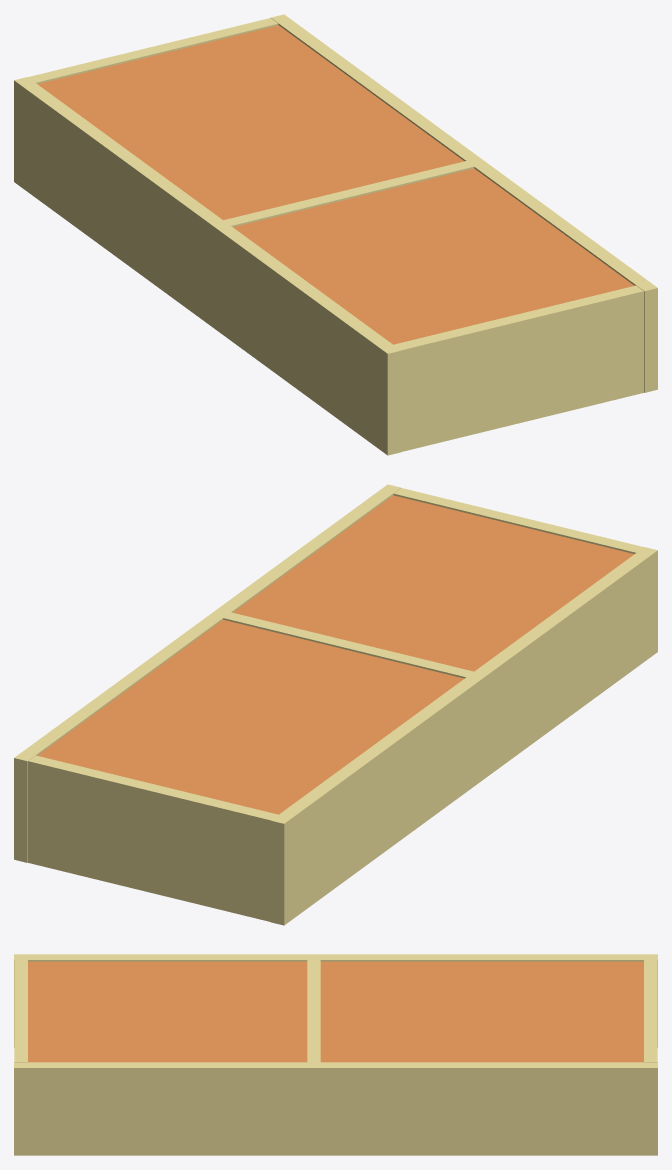
File: room2.fbx
The picture shows the model from 3 angles, top to bottom: view 1: azimuth 30°, elevation 25°; view 2: azimuth 150°, elevation 25°; view 3: azimuth 270°, elevation 25°; orthographic projection. The views are drawn at different scales.
Parts seen in each view (by area): view 1: Plane.001, Cube.001, Cube.004, Cube.003, Cube, Cube.006; view 2: Plane.001, Cube.001, Cube.006, Cube.003, Cube, Cube.004; view 3: Plane.001, Cube.003, Cube.001, Cube, Cube.006, Cube.004.
Part boxes in pixels (box(x1,y1,x2,y2)): Plane.001: box(37, 25, 634, 344); Cube.001: box(14, 77, 401, 455); Cube.004: box(381, 285, 643, 451); Cube.003: box(271, 14, 657, 392); Cube: box(223, 158, 485, 226); Cube.006: box(17, 18, 278, 83); Plane.001: box(37, 495, 634, 814); Cube.001: box(270, 547, 657, 925); Cube.006: box(28, 755, 288, 921); Cube.003: box(14, 484, 400, 862); Cube: box(212, 609, 473, 678); Cube.004: box(393, 488, 654, 555); Plane.001: box(28, 961, 643, 1062); Cube.003: box(14, 1062, 657, 1155); Cube.001: box(14, 954, 657, 1047); Cube: box(307, 960, 320, 1067); Cube.006: box(644, 955, 657, 1062); Cube.004: box(14, 955, 27, 1062).
Size of the model in its own units: 5470 by 1968 by 13107.
